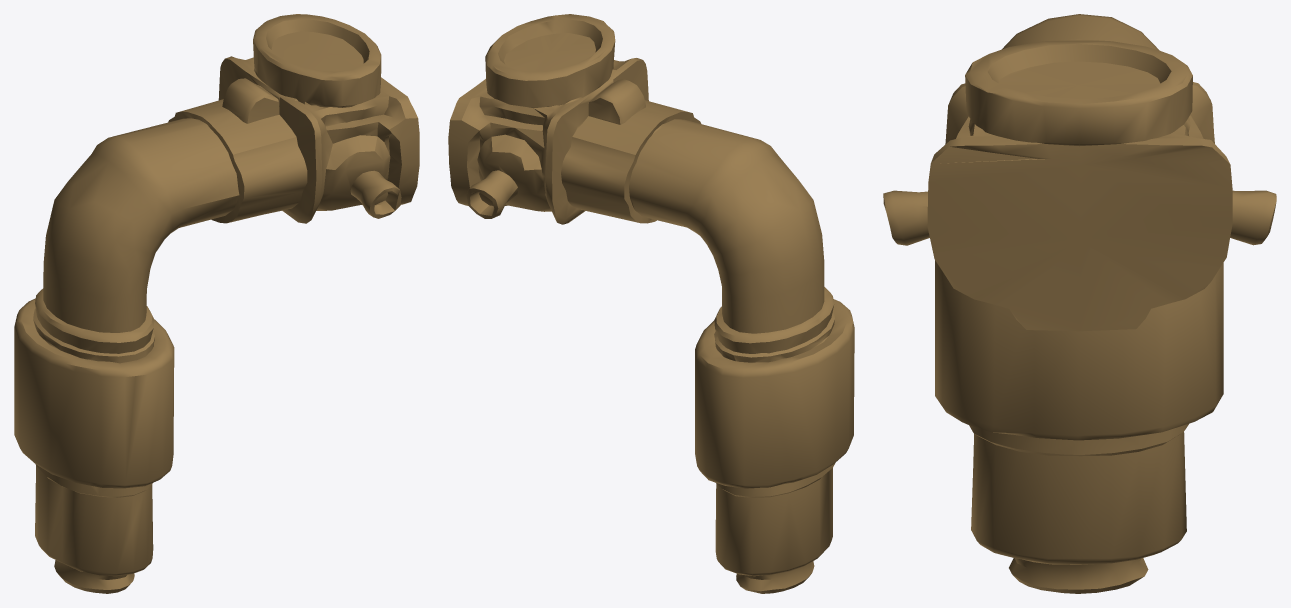
Rendered from 16_FittingElbow.glb.
3 views of the same model, side by side, from view 1: azimuth 30°, elevation 25°; view 2: azimuth 150°, elevation 25°; view 3: azimuth 270°, elevation 25° (orthographic). The views are drawn at different scales.
Parts seen in each view (by area): view 1: SM_TS_BrineMK1_FittingElbow_V02; view 2: SM_TS_BrineMK1_FittingElbow_V02; view 3: SM_TS_BrineMK1_FittingElbow_V02.
Boxes of the visible parts, x1=… form: SM_TS_BrineMK1_FittingElbow_V02: x1=14, y1=14, x2=419, y2=593; SM_TS_BrineMK1_FittingElbow_V02: x1=448, y1=14, x2=854, y2=593; SM_TS_BrineMK1_FittingElbow_V02: x1=883, y1=14, x2=1276, y2=593.
Bounding box in the file's own units: 0.0342 × 0.0462 × 0.0252.
